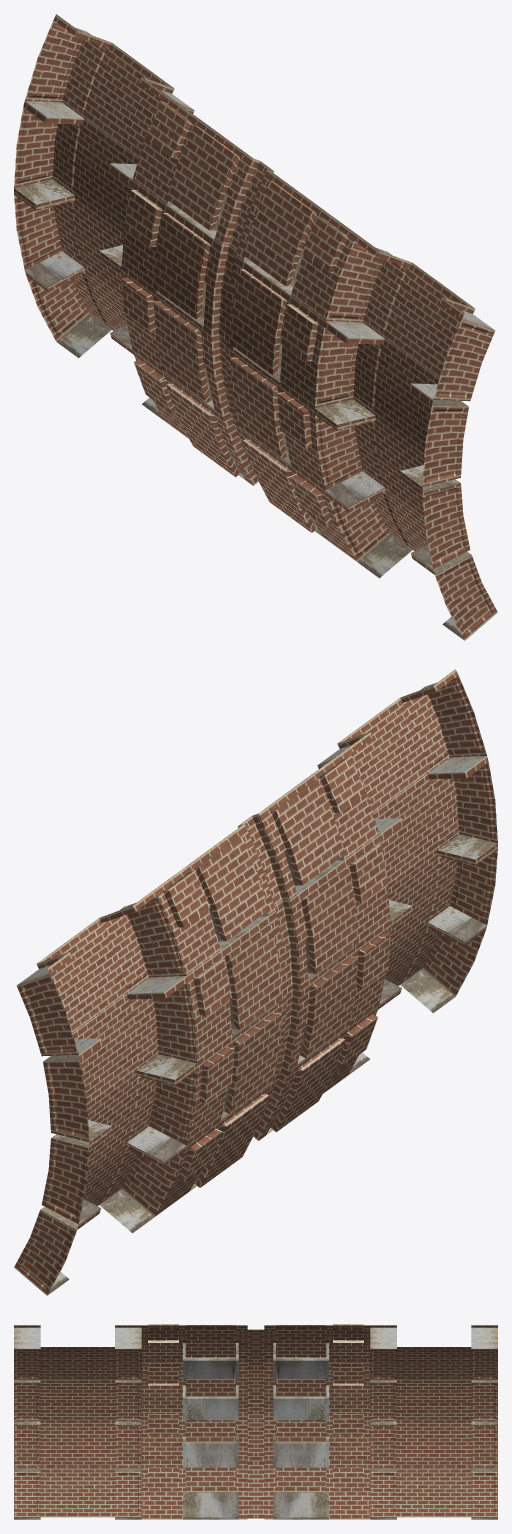
The model's file is House_B_011.fbx.
3 views of the same model, one above another, from view 1: azimuth 30°, elevation 25°; view 2: azimuth 150°, elevation 25°; view 3: azimuth 270°, elevation 25° (orthographic). The views are drawn at different scales.
Parts seen in each view (by area): view 1: polySurface9; view 2: polySurface9; view 3: polySurface9.
Boxes of the visible parts, left/top/right/bottom form: polySurface9: left=14, top=14, right=497, bottom=640; polySurface9: left=14, top=669, right=497, bottom=1295; polySurface9: left=14, top=1324, right=497, bottom=1519.
Bounding box in the file's own units: 0.0297 × 0.1141 × 0.2578.
